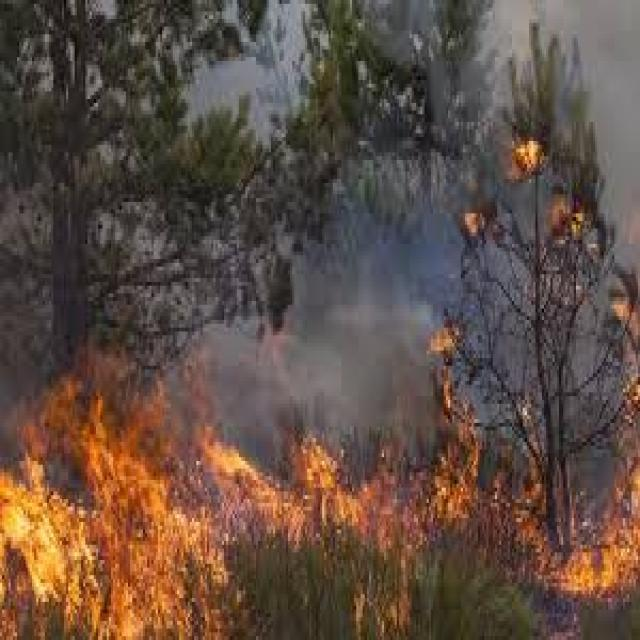Fire: (0, 426, 266, 640), (278, 436, 473, 540), (518, 518, 640, 598)
Smoke: (275, 236, 428, 406)
